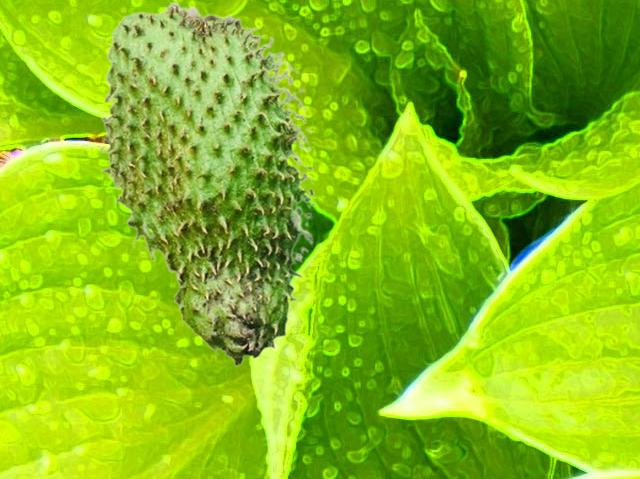guyabano: (98, 0, 317, 366)
